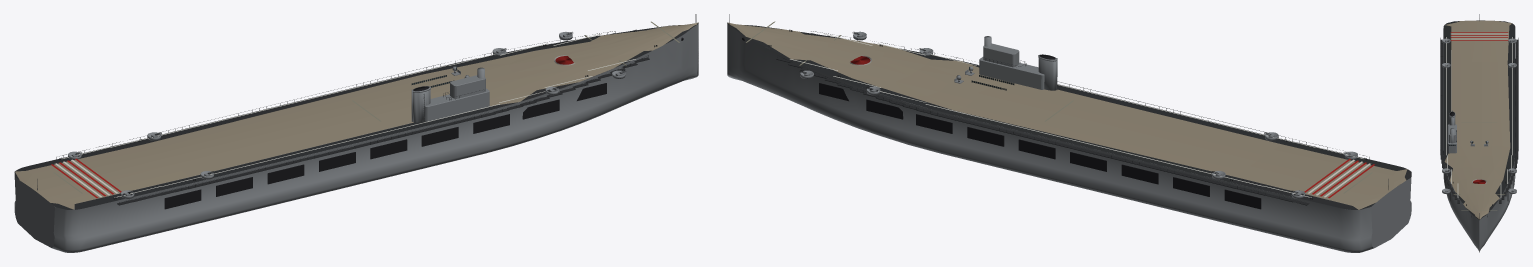
Rendered from shinano_lod.glb.
3 views of the same model, side by side, from view 1: azimuth 30°, elevation 25°; view 2: azimuth 150°, elevation 25°; view 3: azimuth 270°, elevation 25° (orthographic). The views are drawn at different scales.
Parts seen in each view (by area): view 1: shinano_lod; view 2: shinano_lod; view 3: shinano_lod.
Boxes of the visible parts, x1,y1,x2,y2 form: shinano_lod: [14, 14, 698, 252]; shinano_lod: [727, 14, 1411, 252]; shinano_lod: [1440, 14, 1518, 252].
Bounding box in the file's own units: 266 × 31.48 × 43.28.
